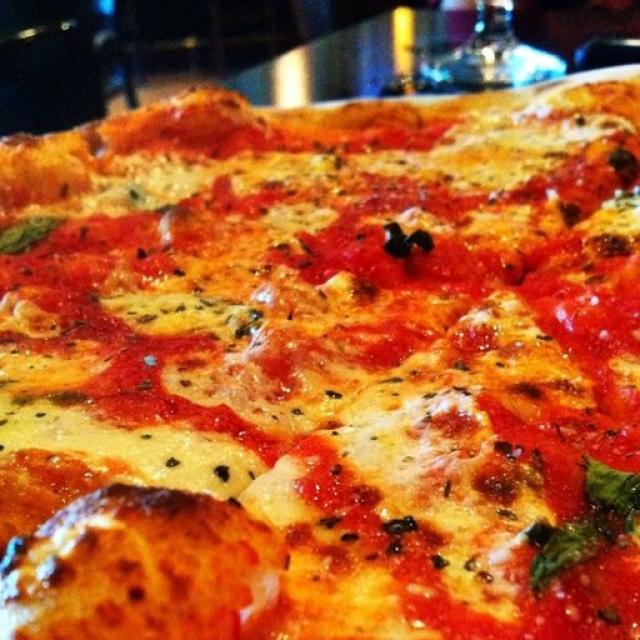Basil: (546, 446, 633, 562), (6, 207, 57, 250)
Cheese: (18, 396, 228, 483), (335, 384, 477, 502), (468, 104, 538, 190)
Pizza: (0, 74, 640, 640)
